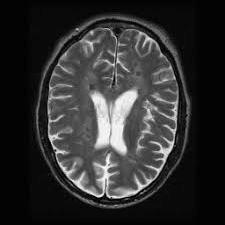Normal_Brain: (12, 2, 192, 225)
